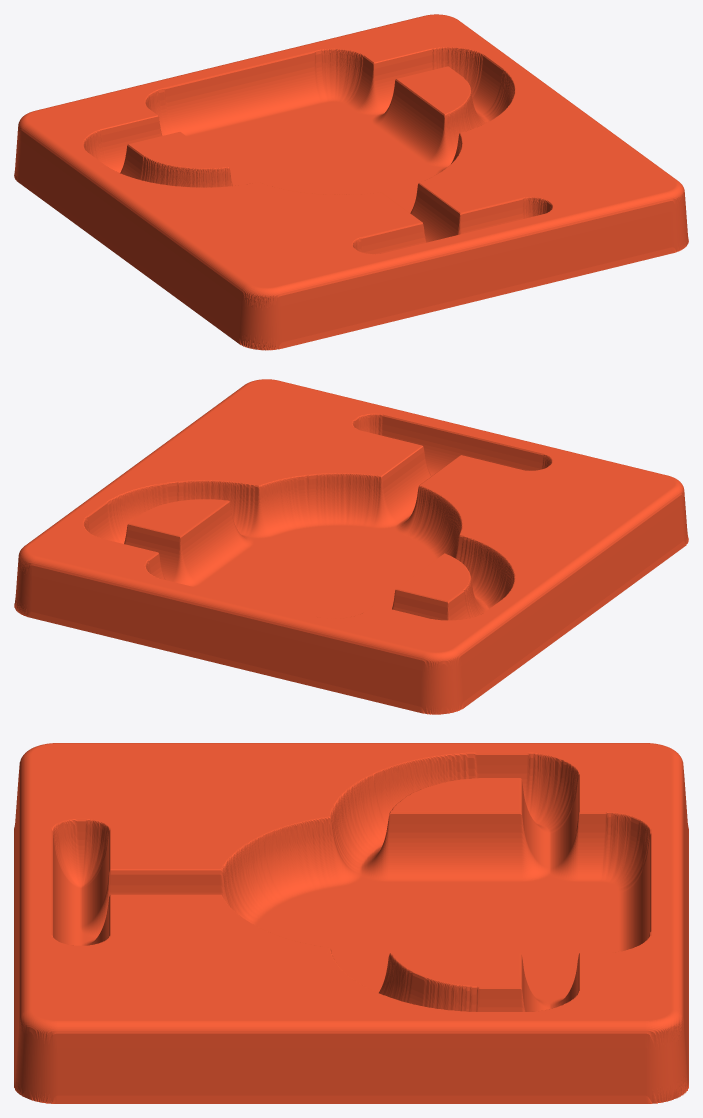
The model's file is mold.glb.
The picture shows the model from 3 angles, top to bottom: view 1: azimuth 30°, elevation 25°; view 2: azimuth 150°, elevation 25°; view 3: azimuth 270°, elevation 25°; orthographic projection. The views are drawn at different scales.
Visible parts, largest first — view 1: geometry_0; view 2: geometry_0; view 3: geometry_0.
Part boxes in pixels (left/top/right/bottom): geometry_0: left=14, top=14, right=688, bottom=350; geometry_0: left=14, top=379, right=688, bottom=714; geometry_0: left=14, top=743, right=688, bottom=1103.
Bounding box in the file's own units: 0.1435 × 0.0175 × 0.1406.
